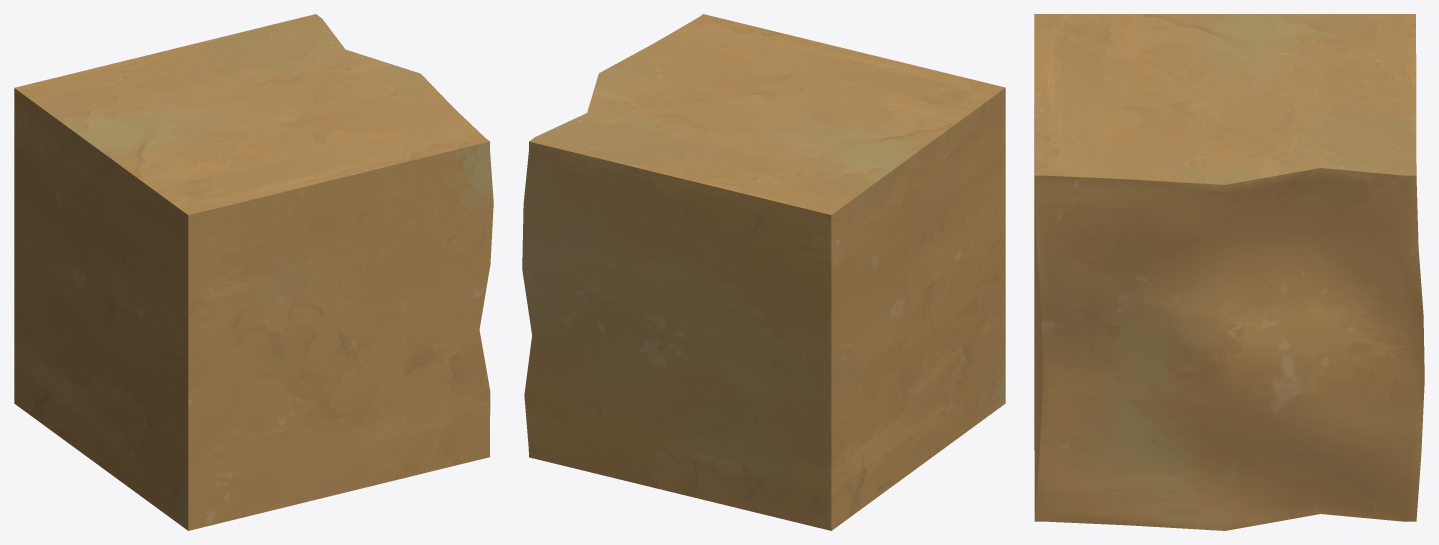
The model's file is StoneWall.fbx.
The picture shows the model from 3 angles, left to right: view 1: azimuth 30°, elevation 25°; view 2: azimuth 150°, elevation 25°; view 3: azimuth 270°, elevation 25°; orthographic projection. The views are drawn at different scales.
Parts seen in each view (by area): view 1: StoneWall; view 2: StoneWall; view 3: StoneWall.
Part boxes in pixels (x1=…): StoneWall: x1=14, y1=14, x2=493, y2=530; StoneWall: x1=522, y1=14, x2=1005, y2=530; StoneWall: x1=1034, y1=14, x2=1424, y2=530.
Bounding box in the file's own units: 221 × 200 × 205.
